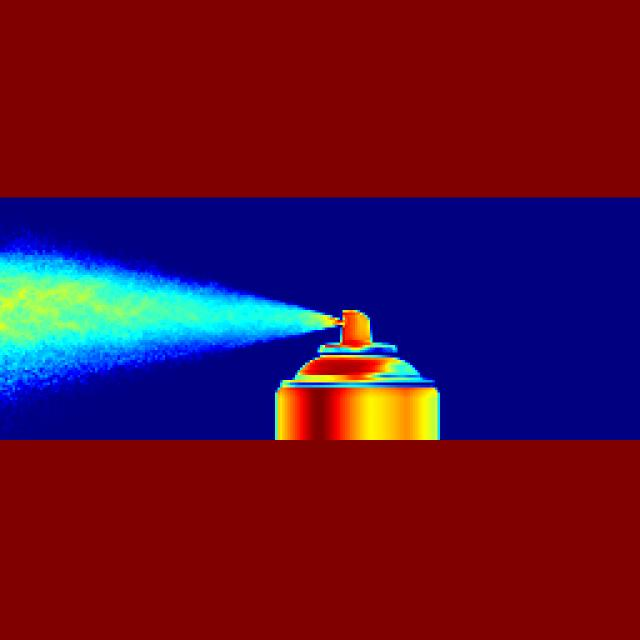Aerosol Cans: (257, 289, 458, 476)
